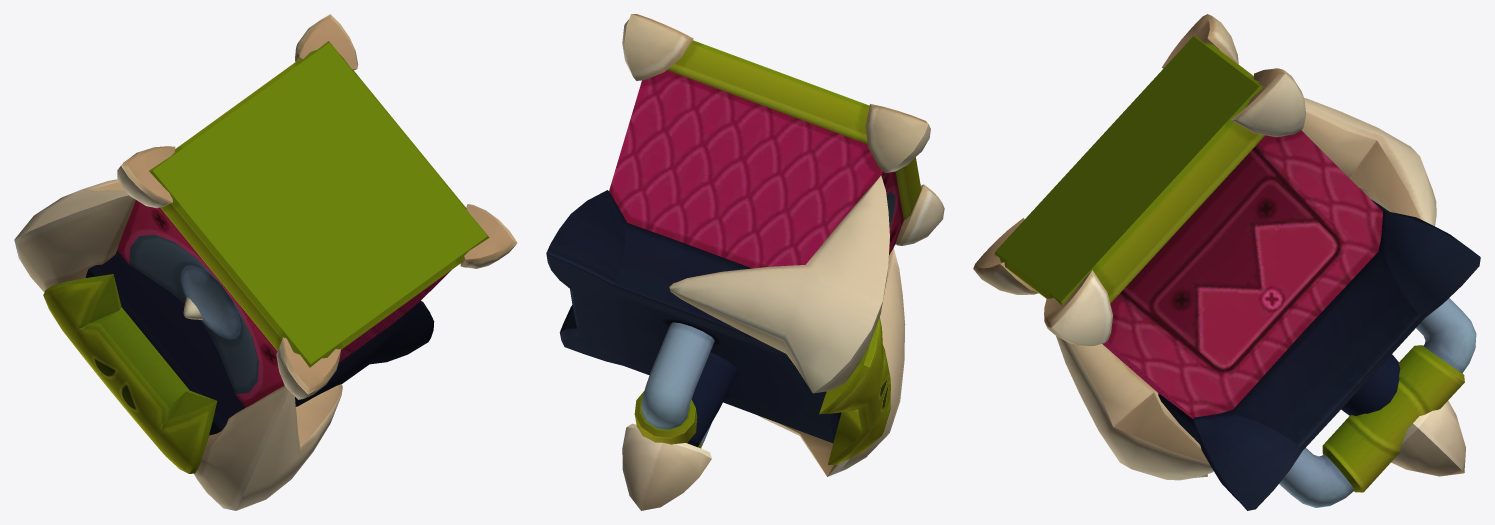
File: damian_weapon.glb
The picture shows the model from 3 angles, left to right: view 1: azimuth 30°, elevation 25°; view 2: azimuth 150°, elevation 25°; view 3: azimuth 270°, elevation 25°; orthographic projection. The views are drawn at different scales.
Visible parts, largest first — view 1: HeroAttachment_Speaker; view 2: HeroAttachment_Speaker, HeroAttachment_Microphone; view 3: HeroAttachment_Speaker, HeroAttachment_Microphone.
Boxes of the visible parts, x1=… form: HeroAttachment_Speaker: x1=14, y1=14, x2=517, y2=510; HeroAttachment_Speaker: x1=546, y1=14, x2=944, y2=476; HeroAttachment_Microphone: x1=622, y1=352, x2=738, y2=510; HeroAttachment_Speaker: x1=973, y1=14, x2=1480, y2=510; HeroAttachment_Microphone: x1=1341, y1=354, x2=1465, y2=476.
Bounding box in the file's own units: 6.84 × 7.68 × 7.24.
2 materials, 2 textured.
